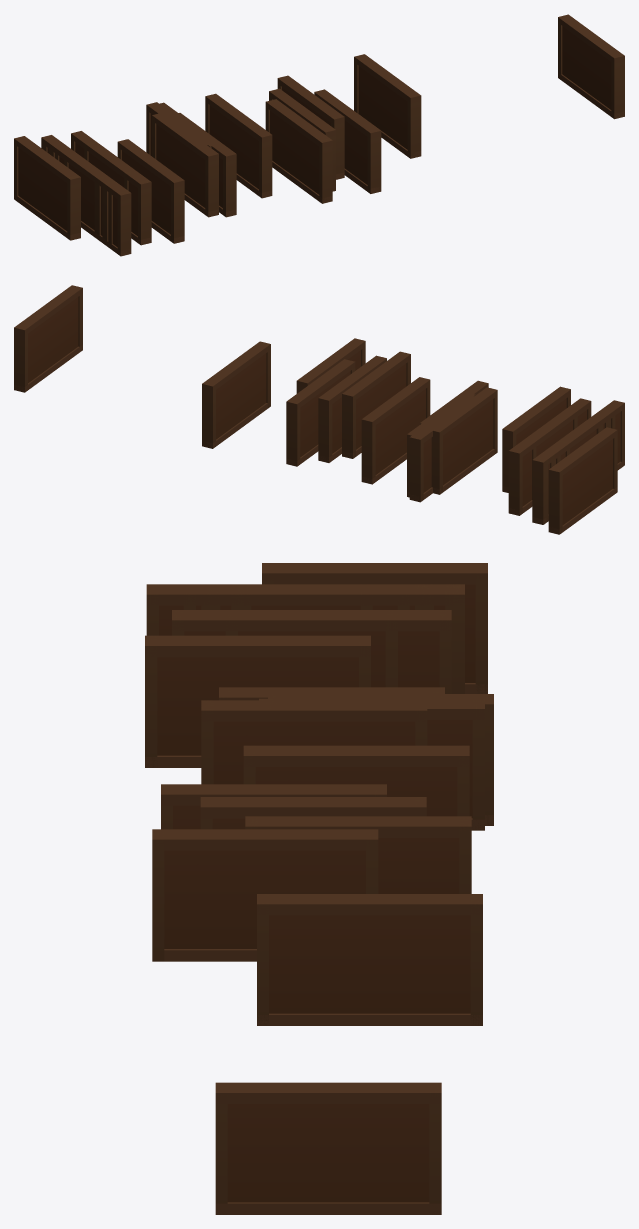
Rendered from hill_street_low.glb.
3 renders of one model, top to bottom at view 1: azimuth 30°, elevation 25°; view 2: azimuth 150°, elevation 25°; view 3: azimuth 270°, elevation 25°, orthographic. The views are drawn at different scales.
Visible parts, largest first — view 1: sign_rent_12, sign_rent_22, sign_rent_5, sign_rent_18, sign_rent_16, sign_rent_21, sign_rent_3, sign_rent_17, sign_rent_1, sign_rent_11, sign_rent_4, sign_rent_2 (+9 smaller); view 2: sign_rent_12, sign_rent_22, sign_rent_5, sign_rent_21, sign_rent_16, sign_rent_18, sign_rent_15, sign_rent_20, sign_rent_3, sign_rent_7, sign_rent_8, sign_rent_10 (+9 smaller); view 3: sign_rent_22, sign_rent_5, sign_rent_17, sign_rent_3, sign_rent_4, sign_rent_16, sign_rent_8, sign_rent_12, sign_rent_15, sign_rent_1, sign_rent_2, sign_rent_10 (+9 smaller).
Part boxes in pixels (x1,y1,x2,y2): sign_rent_12: [14, 136, 80, 240]; sign_rent_22: [558, 14, 624, 119]; sign_rent_5: [354, 54, 421, 158]; sign_rent_18: [265, 99, 332, 203]; sign_rent_16: [205, 93, 272, 198]; sign_rent_21: [152, 113, 218, 217]; sign_rent_3: [117, 139, 184, 243]; sign_rent_17: [314, 89, 381, 193]; sign_rent_1: [84, 141, 151, 245]; sign_rent_11: [64, 154, 131, 256]; sign_rent_4: [174, 113, 236, 217]; sign_rent_2: [43, 137, 108, 240]; sign_rent_12: [548, 427, 617, 534]; sign_rent_22: [14, 285, 82, 392]; sign_rent_5: [202, 341, 270, 448]; sign_rent_21: [431, 387, 497, 494]; sign_rent_16: [361, 377, 430, 484]; sign_rent_18: [342, 351, 410, 458]; sign_rent_15: [508, 408, 577, 515]; sign_rent_20: [318, 355, 386, 462]; sign_rent_3: [502, 386, 570, 492]; sign_rent_7: [409, 395, 474, 502]; sign_rent_8: [286, 359, 354, 466]; sign_rent_10: [295, 362, 355, 459]; sign_rent_22: [215, 1082, 441, 1214]; sign_rent_5: [257, 894, 482, 1025]; sign_rent_17: [152, 829, 378, 961]; sign_rent_3: [145, 635, 370, 767]; sign_rent_4: [201, 700, 427, 784]; sign_rent_16: [243, 745, 469, 816]; sign_rent_8: [245, 816, 471, 893]; sign_rent_12: [262, 563, 487, 693]; sign_rent_15: [225, 610, 451, 693]; sign_rent_1: [172, 610, 397, 687]; sign_rent_2: [231, 584, 457, 693]; sign_rent_10: [245, 816, 471, 893].
Size of what is drawn, in the model's own units: 8.21 by 0.88 by 2.28.
